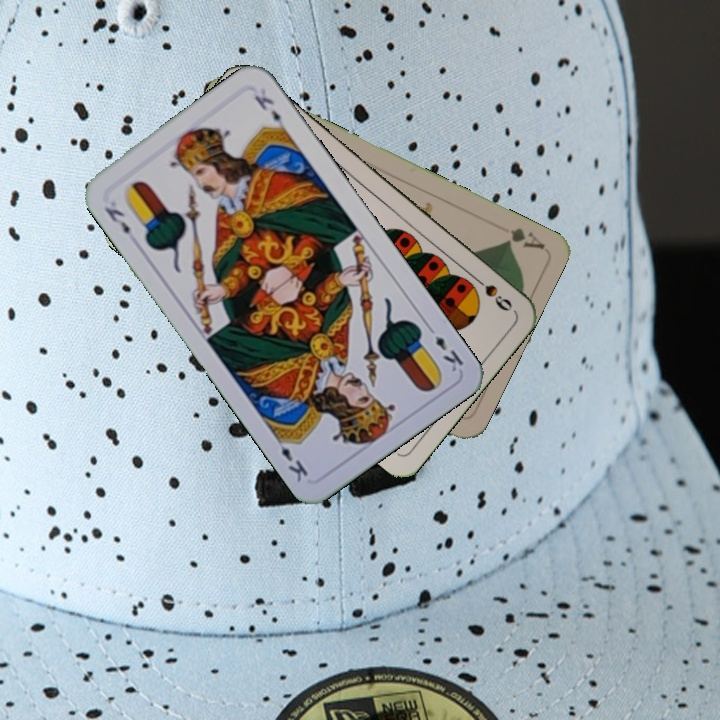EK: (422, 320, 467, 375), (100, 202, 133, 237)
GA: (501, 223, 546, 252)
S9: (466, 270, 515, 314)
